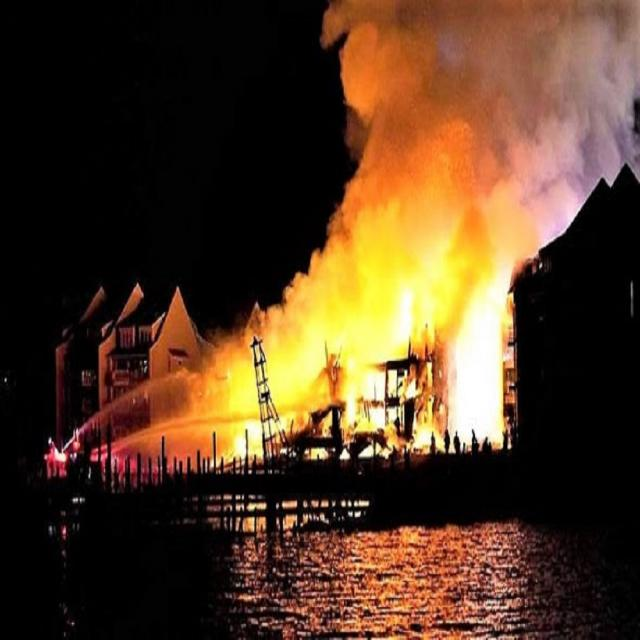smoke: (339, 14, 586, 221)
